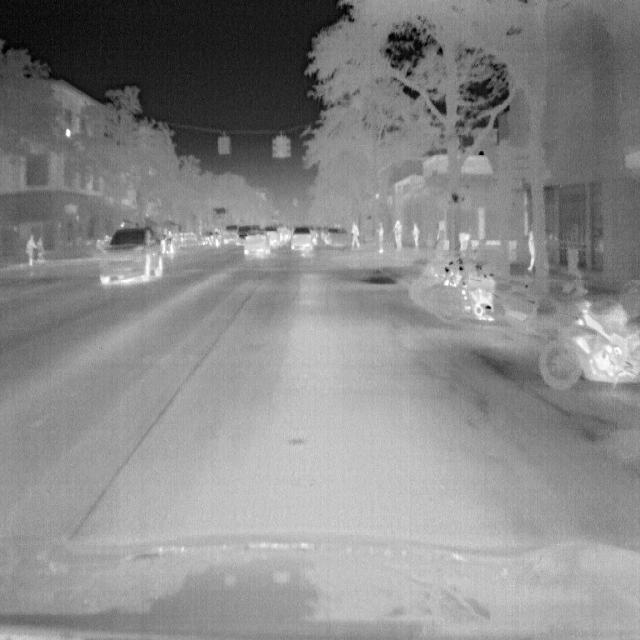Pedestrian: (526, 228, 538, 274), (374, 221, 386, 254), (25, 234, 37, 266), (350, 221, 360, 249), (393, 219, 402, 250), (411, 222, 420, 250)
Vehicle: (98, 225, 166, 289), (243, 230, 272, 256), (290, 226, 314, 251)
